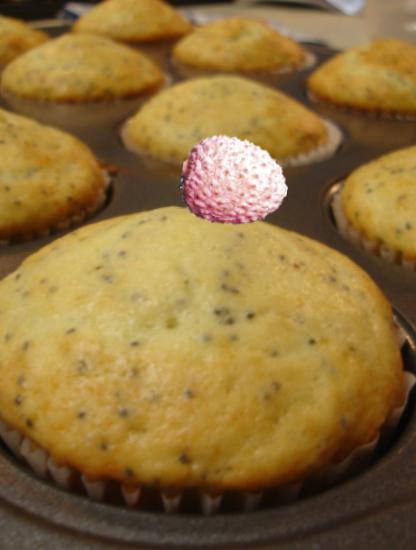Lychee: (181, 128, 289, 236)
